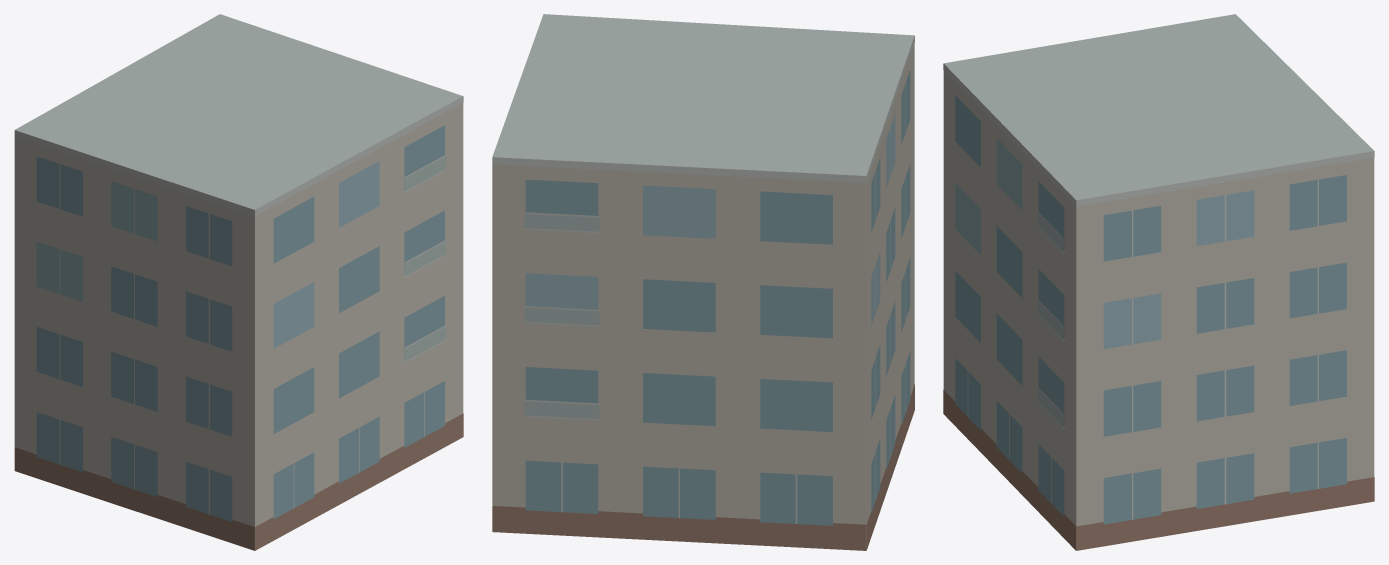
The model's file is survey-upis-32953153.glb.
3 renders of one model, left to right at view 1: azimuth 30°, elevation 25°; view 2: azimuth 150°, elevation 25°; view 3: azimuth 270°, elevation 25°, orthographic. The views are drawn at different scales.
Visible parts, largest first — view 1: survey-upis-32953153.tmp; view 2: survey-upis-32953153.tmp; view 3: survey-upis-32953153.tmp.
Boxes of the visible parts, x1,y1,x2,y2 form: survey-upis-32953153.tmp: (14, 14, 463, 550); survey-upis-32953153.tmp: (492, 14, 914, 550); survey-upis-32953153.tmp: (943, 14, 1374, 550).
Size of the model in its own units: 14.68 by 12.87 by 14.35.
